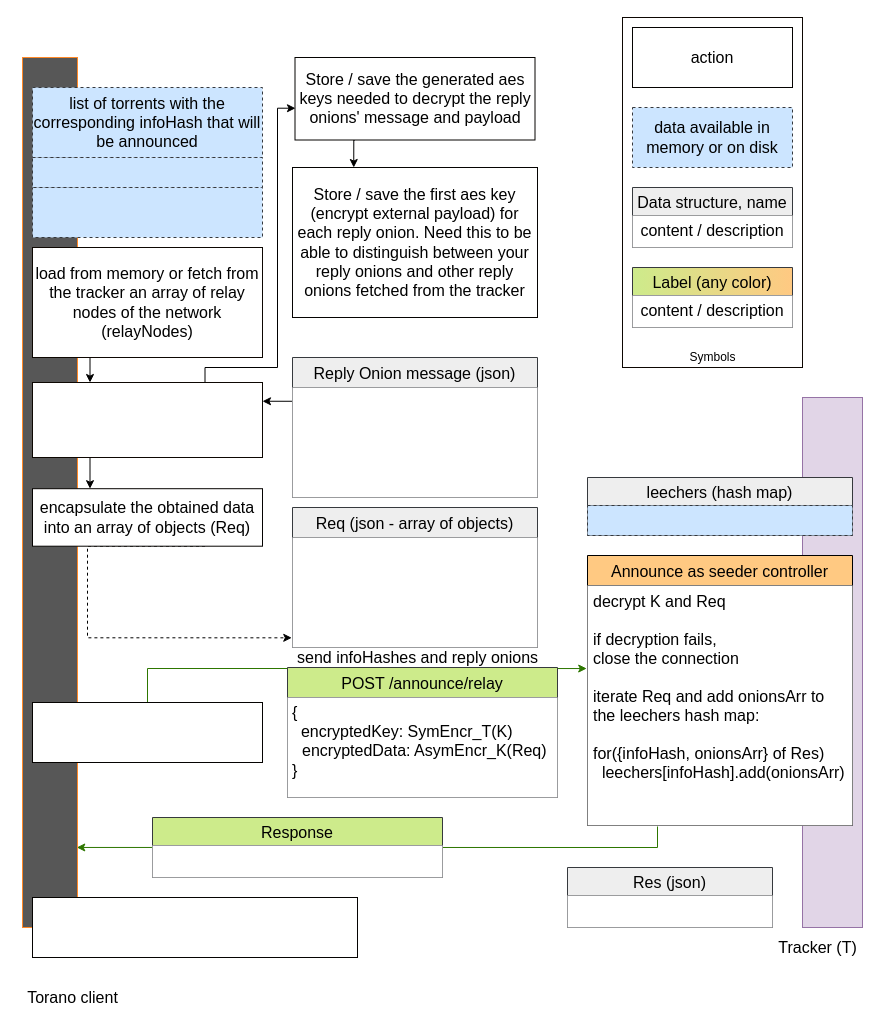
The diagram is 880 pixels wide and 1025 high, and some of its shapes have lost their labels. The centre of each missing label's shape, as x and y in pixels:
[ { infoHash: infoHash replyOnions: [ onionsArr ] }, { .... } ]: point (414, 592)
generate aes key (K) for the following data exchange: point (147, 732)
generate an array of one or more reply onions (onionsArr) for each infoHash: point (147, 420)
infoHash ➜ array of reply onions: point (719, 520)
Repeat when current session expires or when new torrent is added: point (195, 927)
session expiration date and time: point (147, 212)
tracker's public key (T): point (147, 172)
{ encryptedData: AsymEncr_K(Res) }: point (297, 861)
{ error: error (if any) }: point (669, 911)
{ key: current date and time infoHash : infoHash type: "upload" }: point (414, 442)
